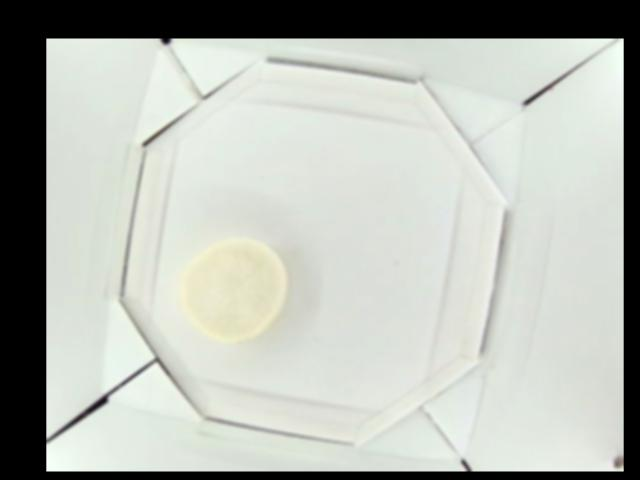Mooli: (183, 238, 288, 345)
